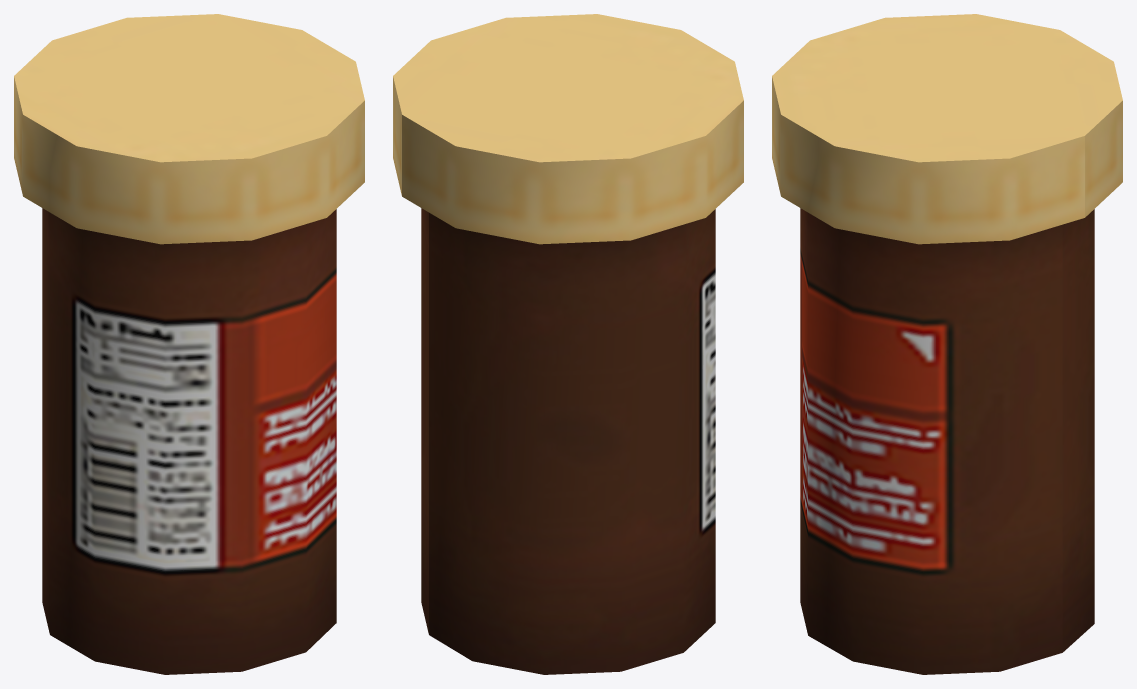
File: medicine01.fbx
The picture shows the model from 3 angles, left to right: view 1: azimuth 30°, elevation 25°; view 2: azimuth 150°, elevation 25°; view 3: azimuth 270°, elevation 25°; orthographic projection.
Visible parts, largest first — view 1: medicine01; view 2: medicine01; view 3: medicine01.
Boxes of the visible parts, bbox=[...] form: medicine01: bbox=[14, 14, 364, 674]; medicine01: bbox=[393, 14, 743, 674]; medicine01: bbox=[772, 14, 1122, 674].
Bounding box in the file's own units: 4.88 × 8.05 × 4.88.
1 material, 1 textured.
